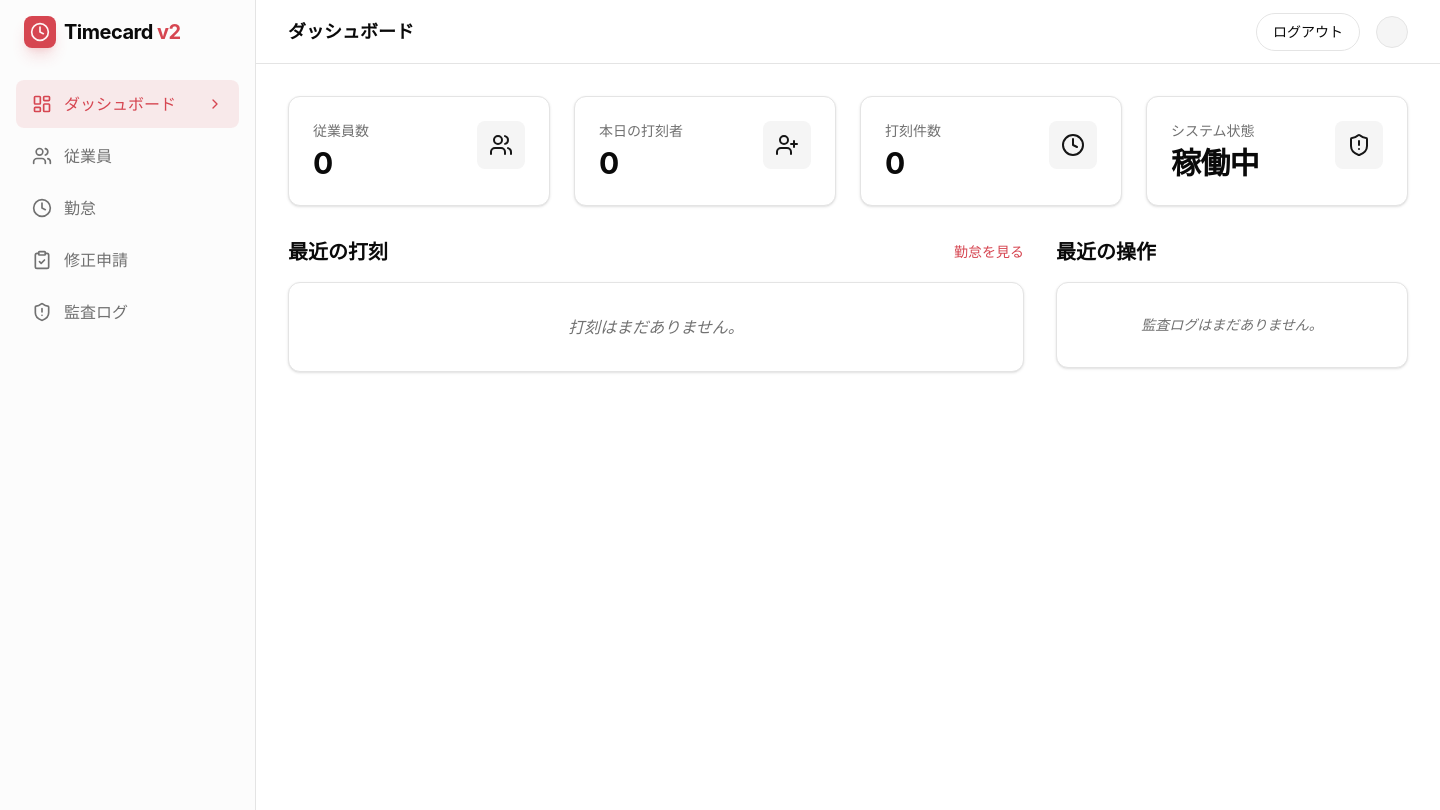
Test: Admin App › 月次勤怠に policy profile と補助集計を表示する
Click the button "勤怠": [128, 208] box [16, 184, 239, 232]
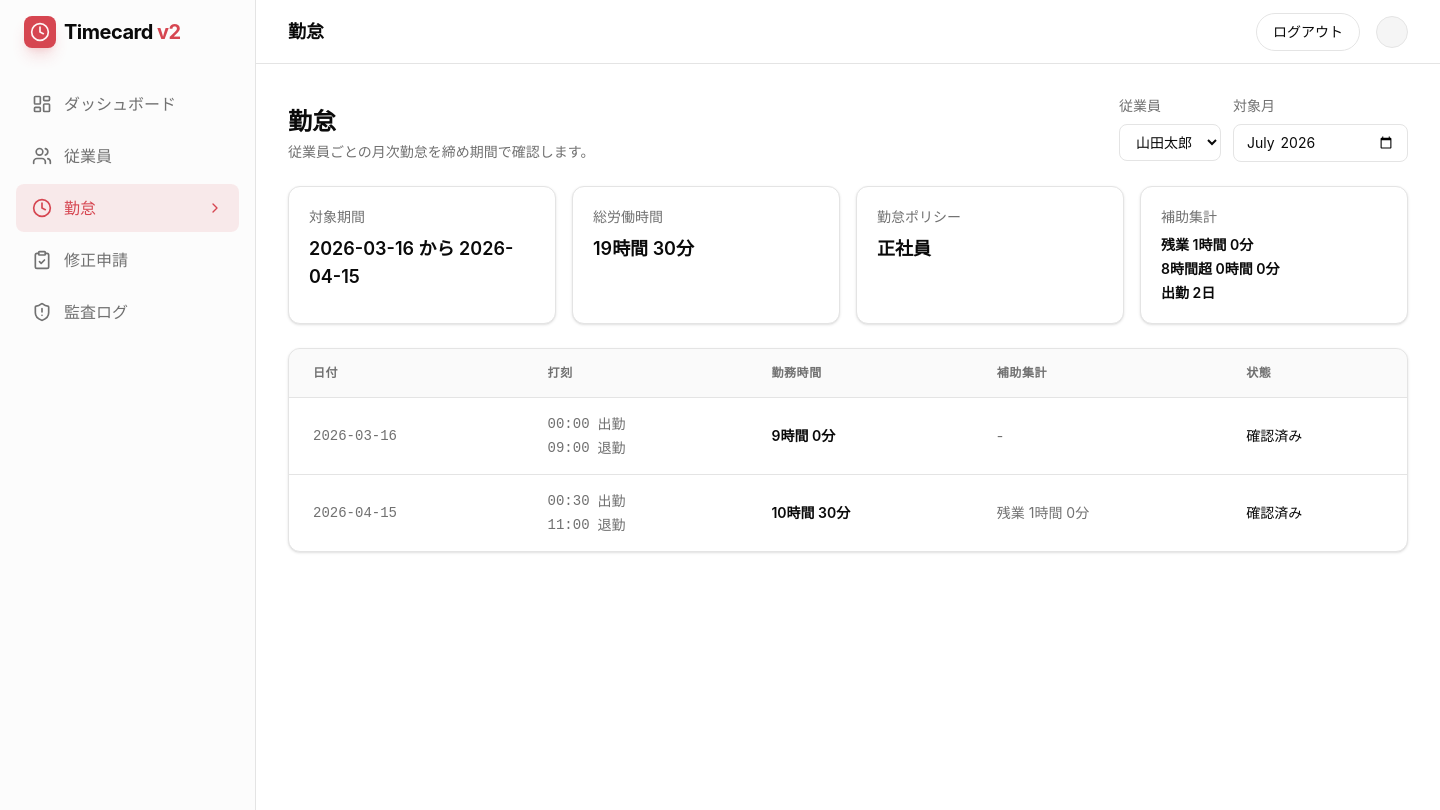
Expected: the text "正社員" is shown, [877, 238, 931, 259]
Expected: the text "残業 1時間 0分" in the row of "正社員" is shown, [1161, 236, 1253, 253]
Expected: the text "2026-04-15" is shown, [289, 474, 524, 551]
